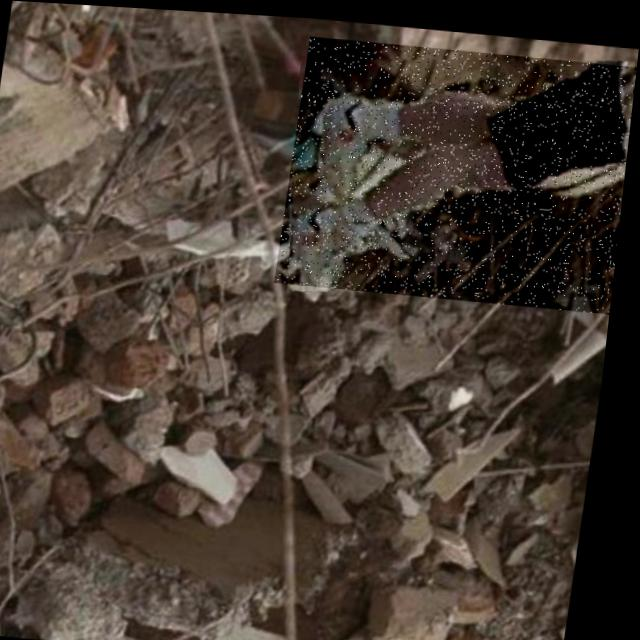Person in Rubble: (278, 31, 639, 306)
